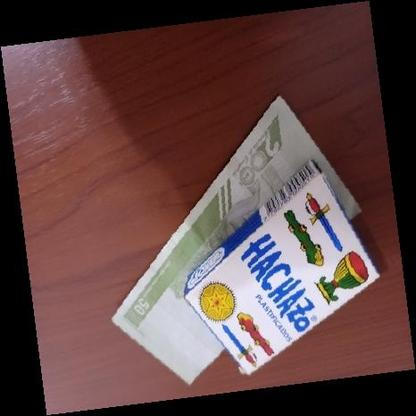vef_back: (110, 92, 362, 387)
